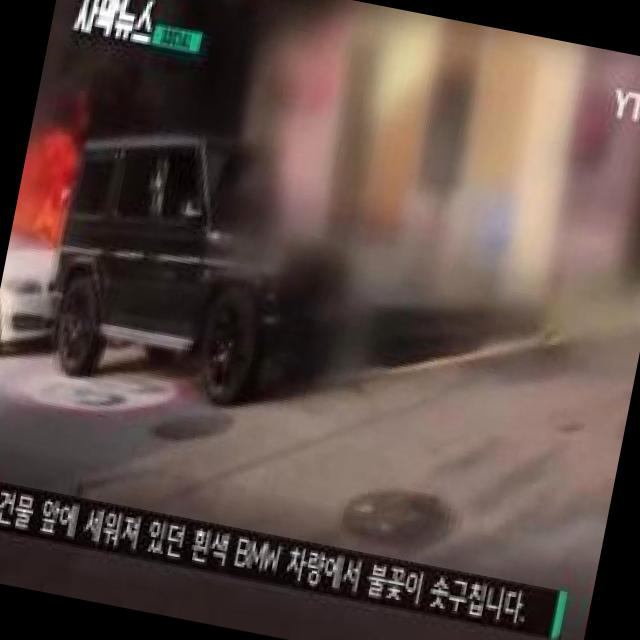Fire: (9, 123, 85, 254)
